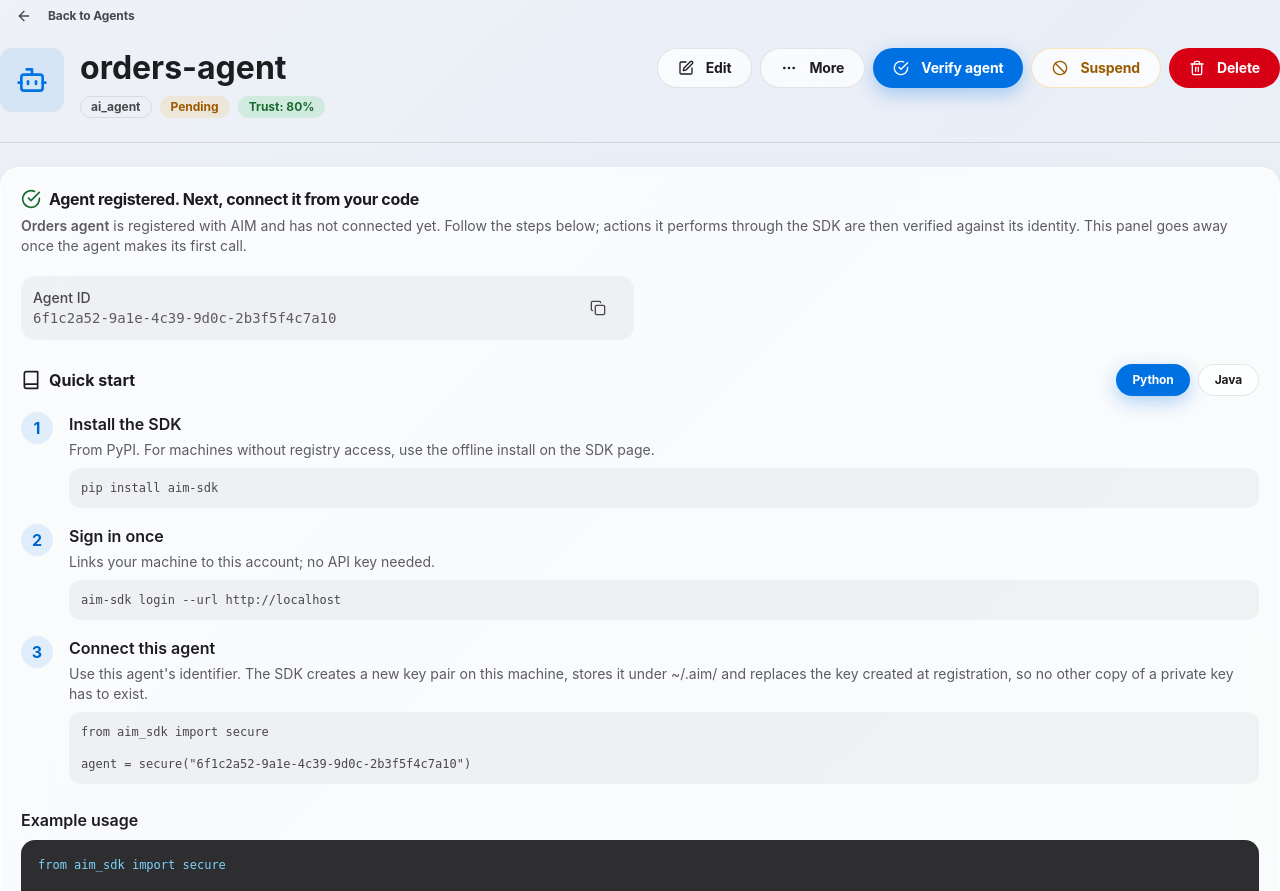
Test case: agent page lifecycle outcomes › states a refusal of the record path to verify this agent once, in a neutral alert beside the actions, with when to try again
Step 1. Click the button "Verify agent" → (948, 68), box [873,48,1024,88]
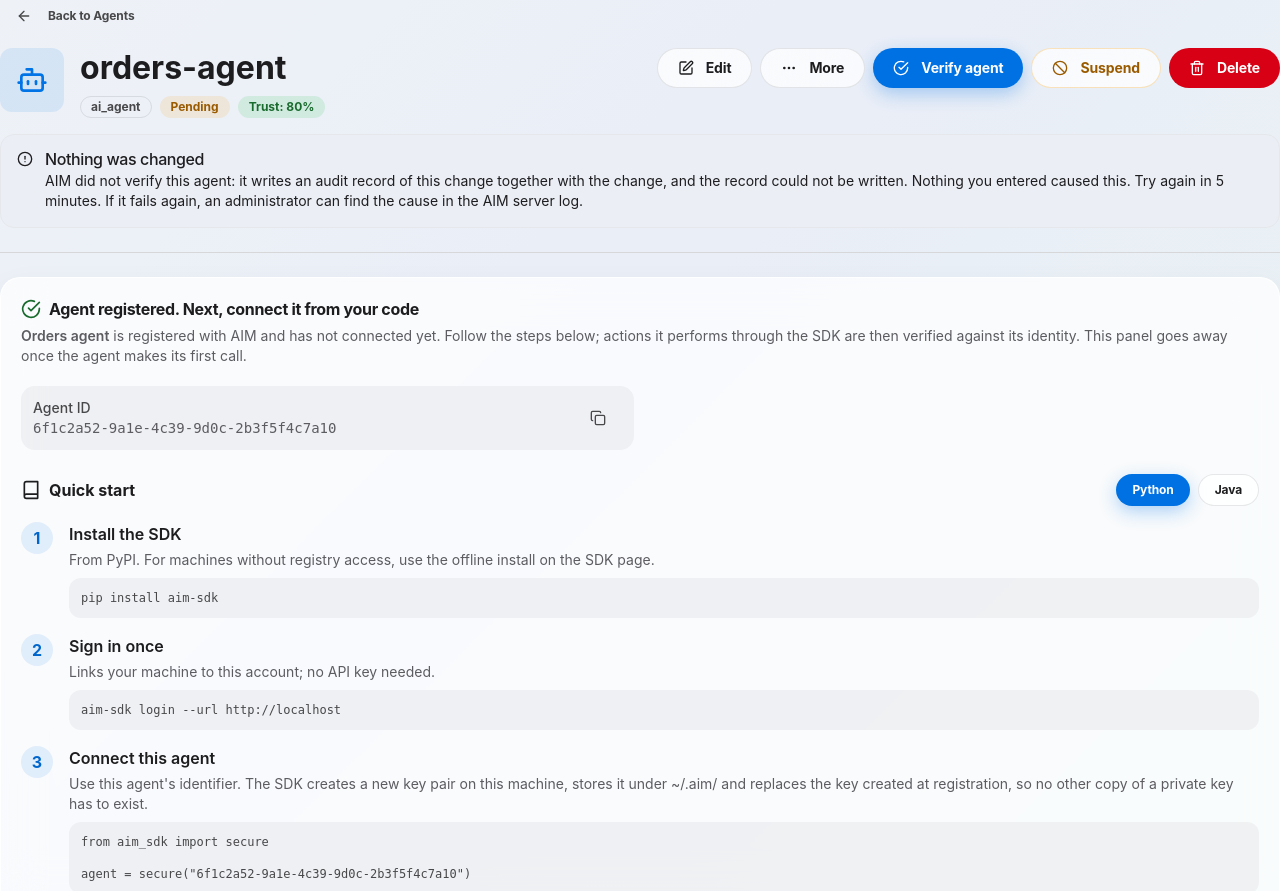
Result: the number of messages is 1 at [0,134,1279,228]
Result: the heading "Nothing was changed" is shown at [45,149,204,169]
Result: the message shows "the record could not be written" at [45,172,1224,209]
Step 2. Click the button "Verify agent" → (948, 68), box [873,48,1024,88]
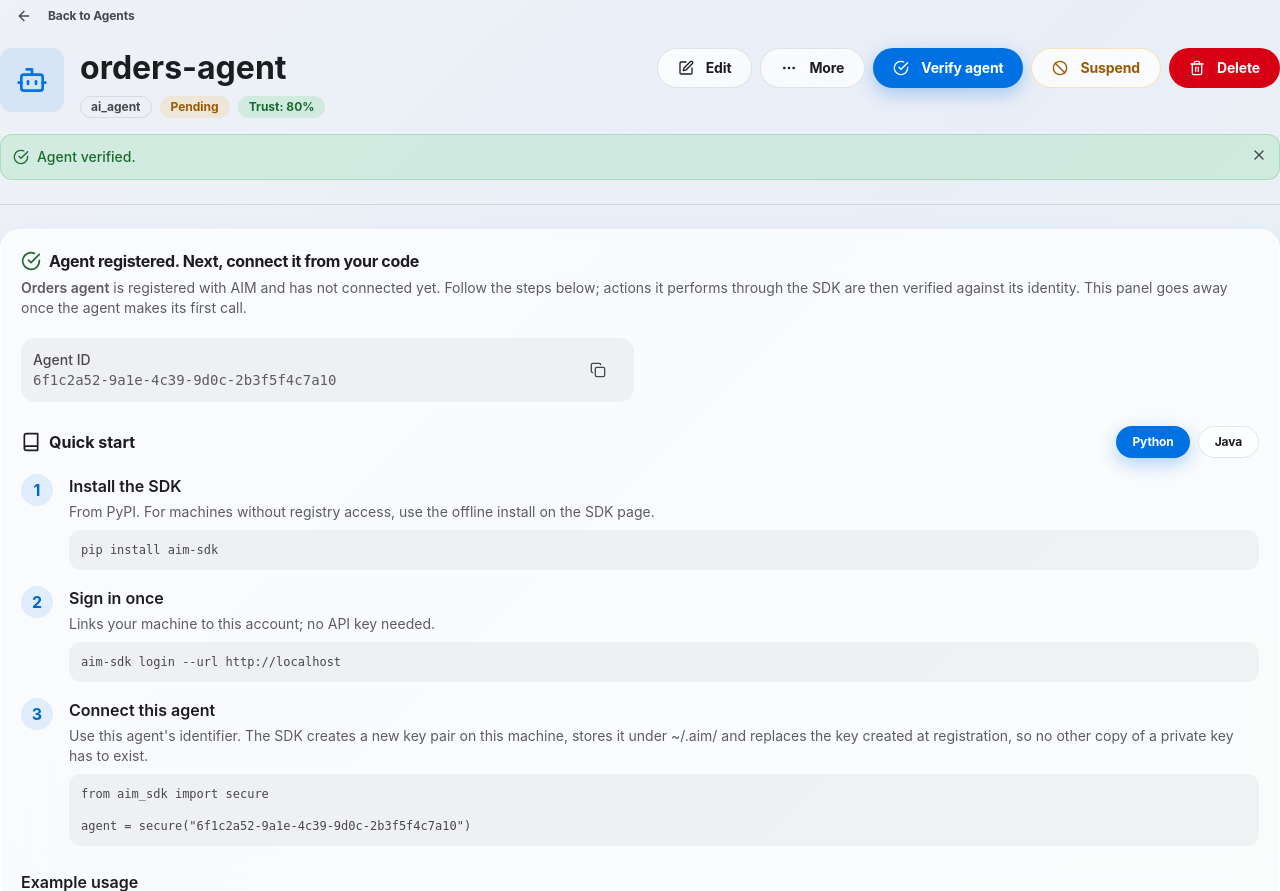
Result: the message "Agent verified." is shown at [0,134,1279,180]
